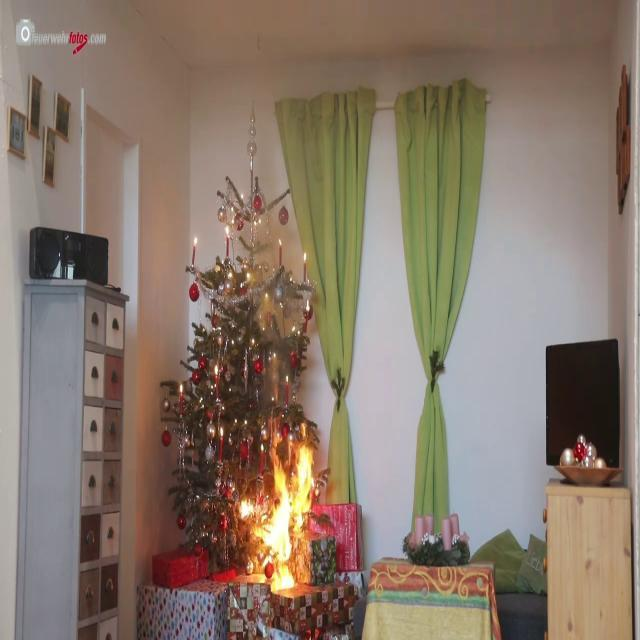Fire: (248, 431, 316, 594)
